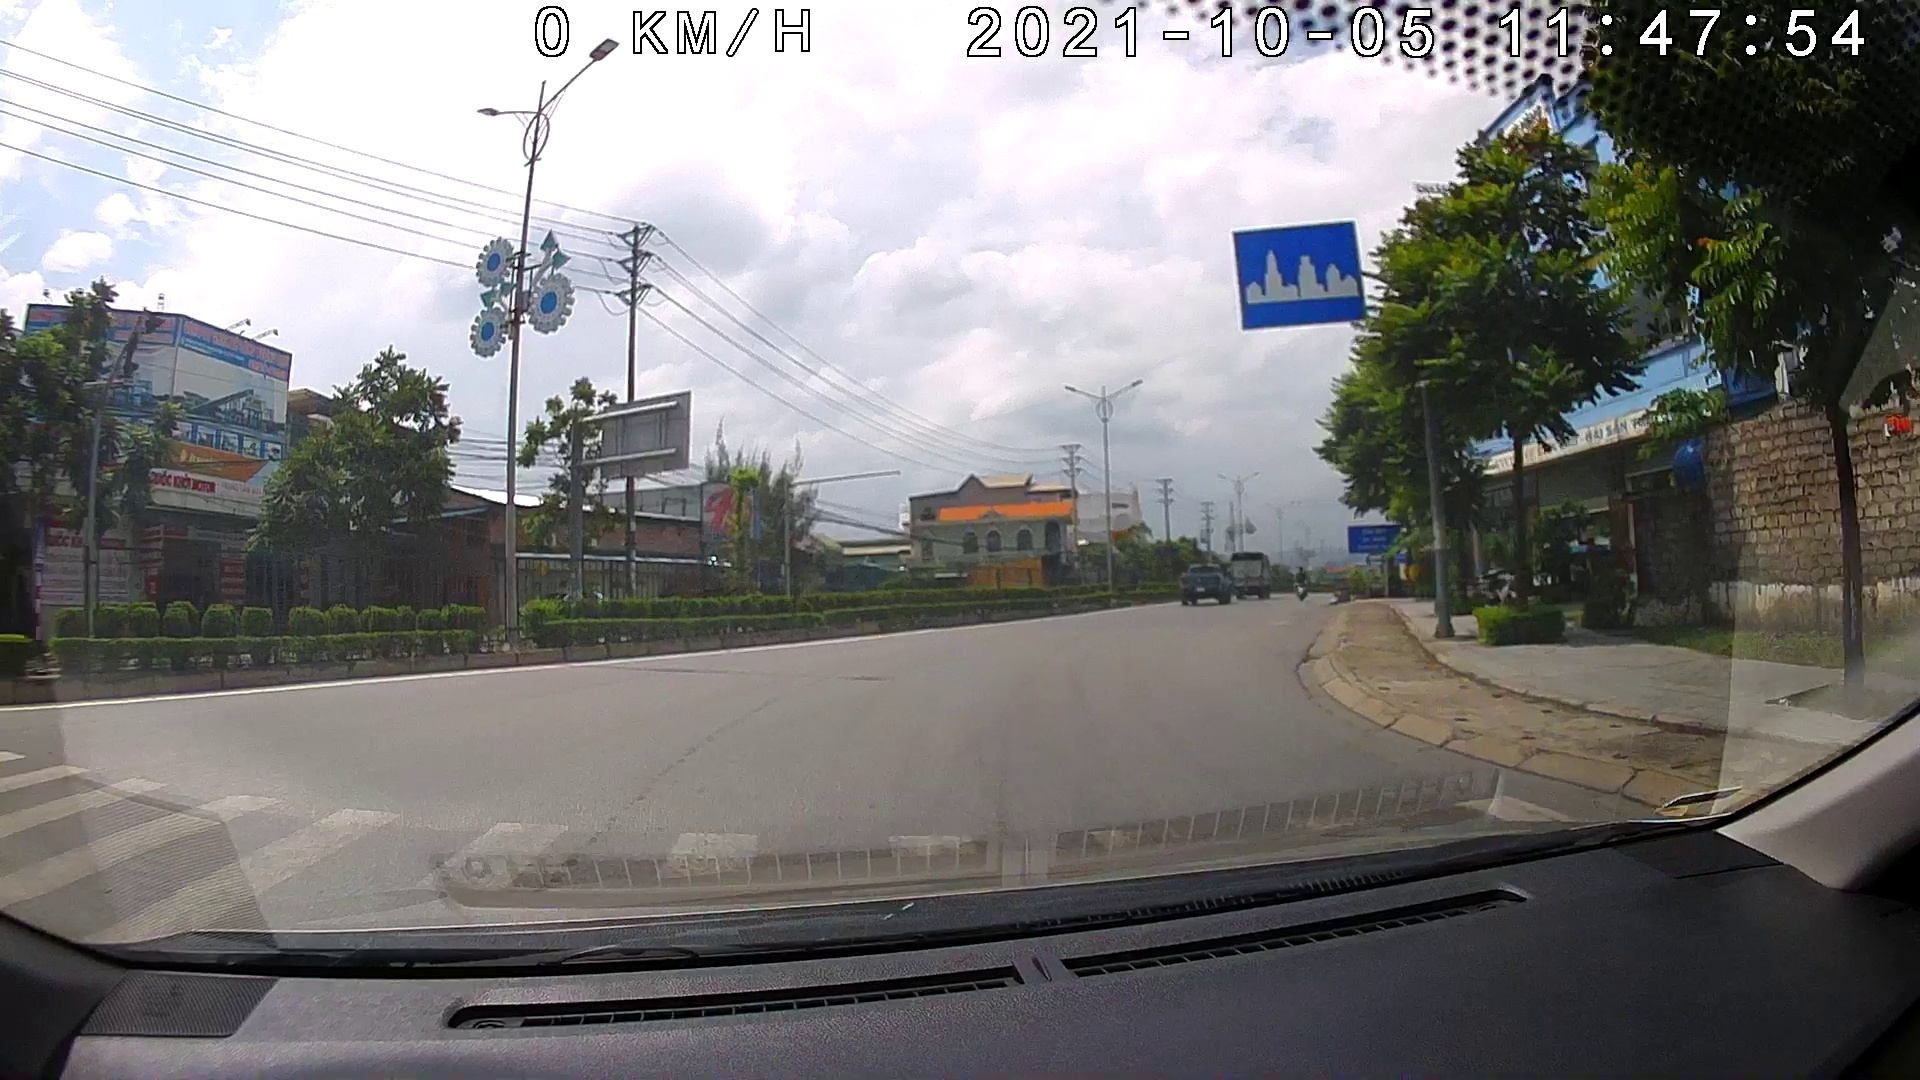Bien khac: (1232, 222, 1366, 330)
